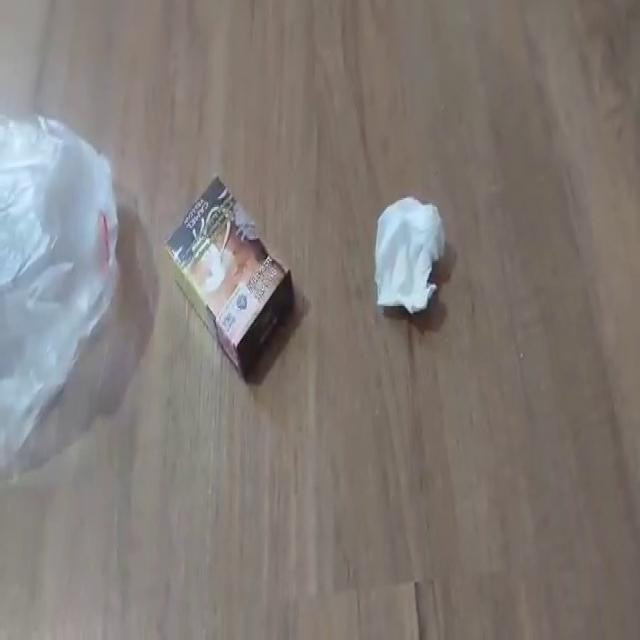Anorganik: (1, 102, 122, 482)
Organik: (163, 168, 299, 390), (372, 188, 449, 323)
